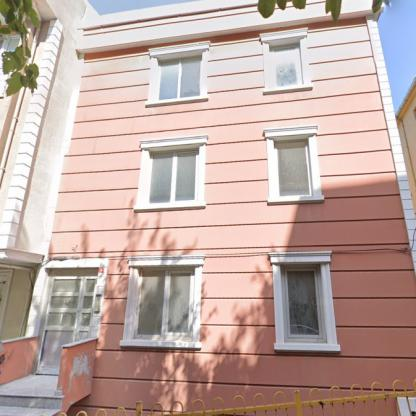door: (33, 272, 95, 372)
window: (134, 268, 192, 338), (287, 266, 321, 340), (150, 149, 197, 202), (276, 142, 313, 197), (157, 53, 200, 96), (268, 43, 300, 85)
